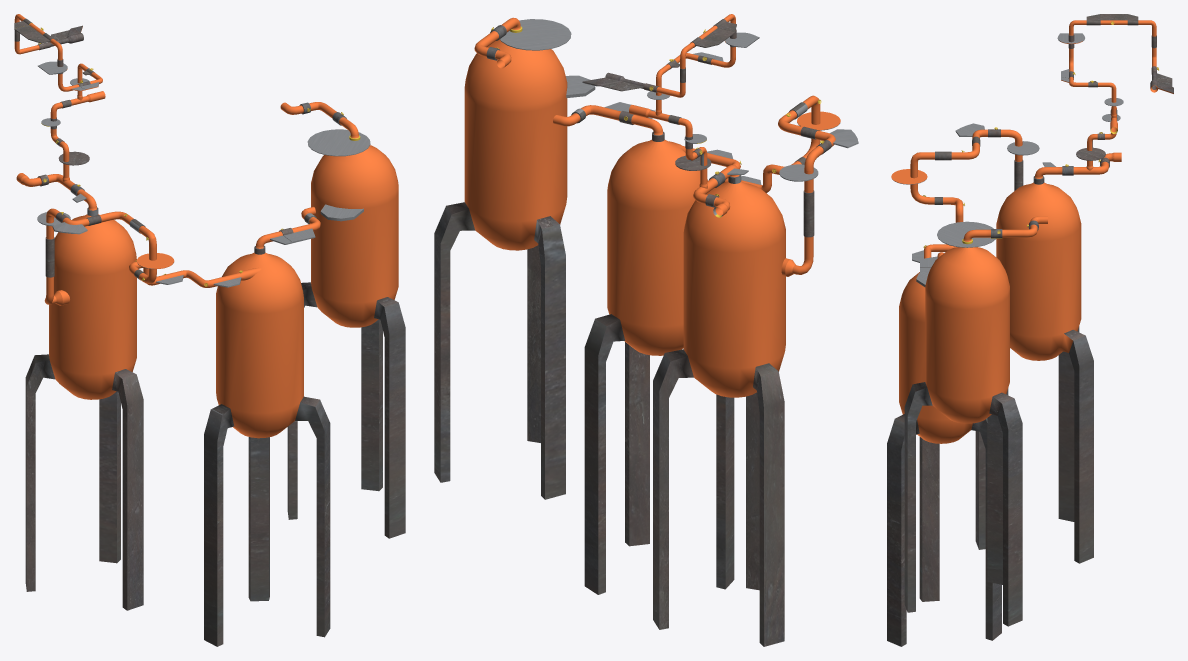
File: biome_pipes.fbx
The picture shows the model from 3 angles, left to right: view 1: azimuth 30°, elevation 25°; view 2: azimuth 150°, elevation 25°; view 3: azimuth 270°, elevation 25°; orthographic projection. The views are drawn at different scales.
Visible parts, largest first — view 1: biome_pipe; view 2: biome_pipe; view 3: biome_pipe.
Part boxes in pixels (bbox=[...]): biome_pipe: bbox=[14, 14, 405, 646]; biome_pipe: bbox=[434, 14, 858, 646]; biome_pipe: bbox=[887, 14, 1173, 646].
Size of the model in its own units: 25860 by 40253 by 19315.
1 material, 1 textured.
